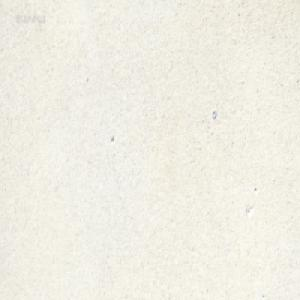Washer: (211, 109, 217, 119)
